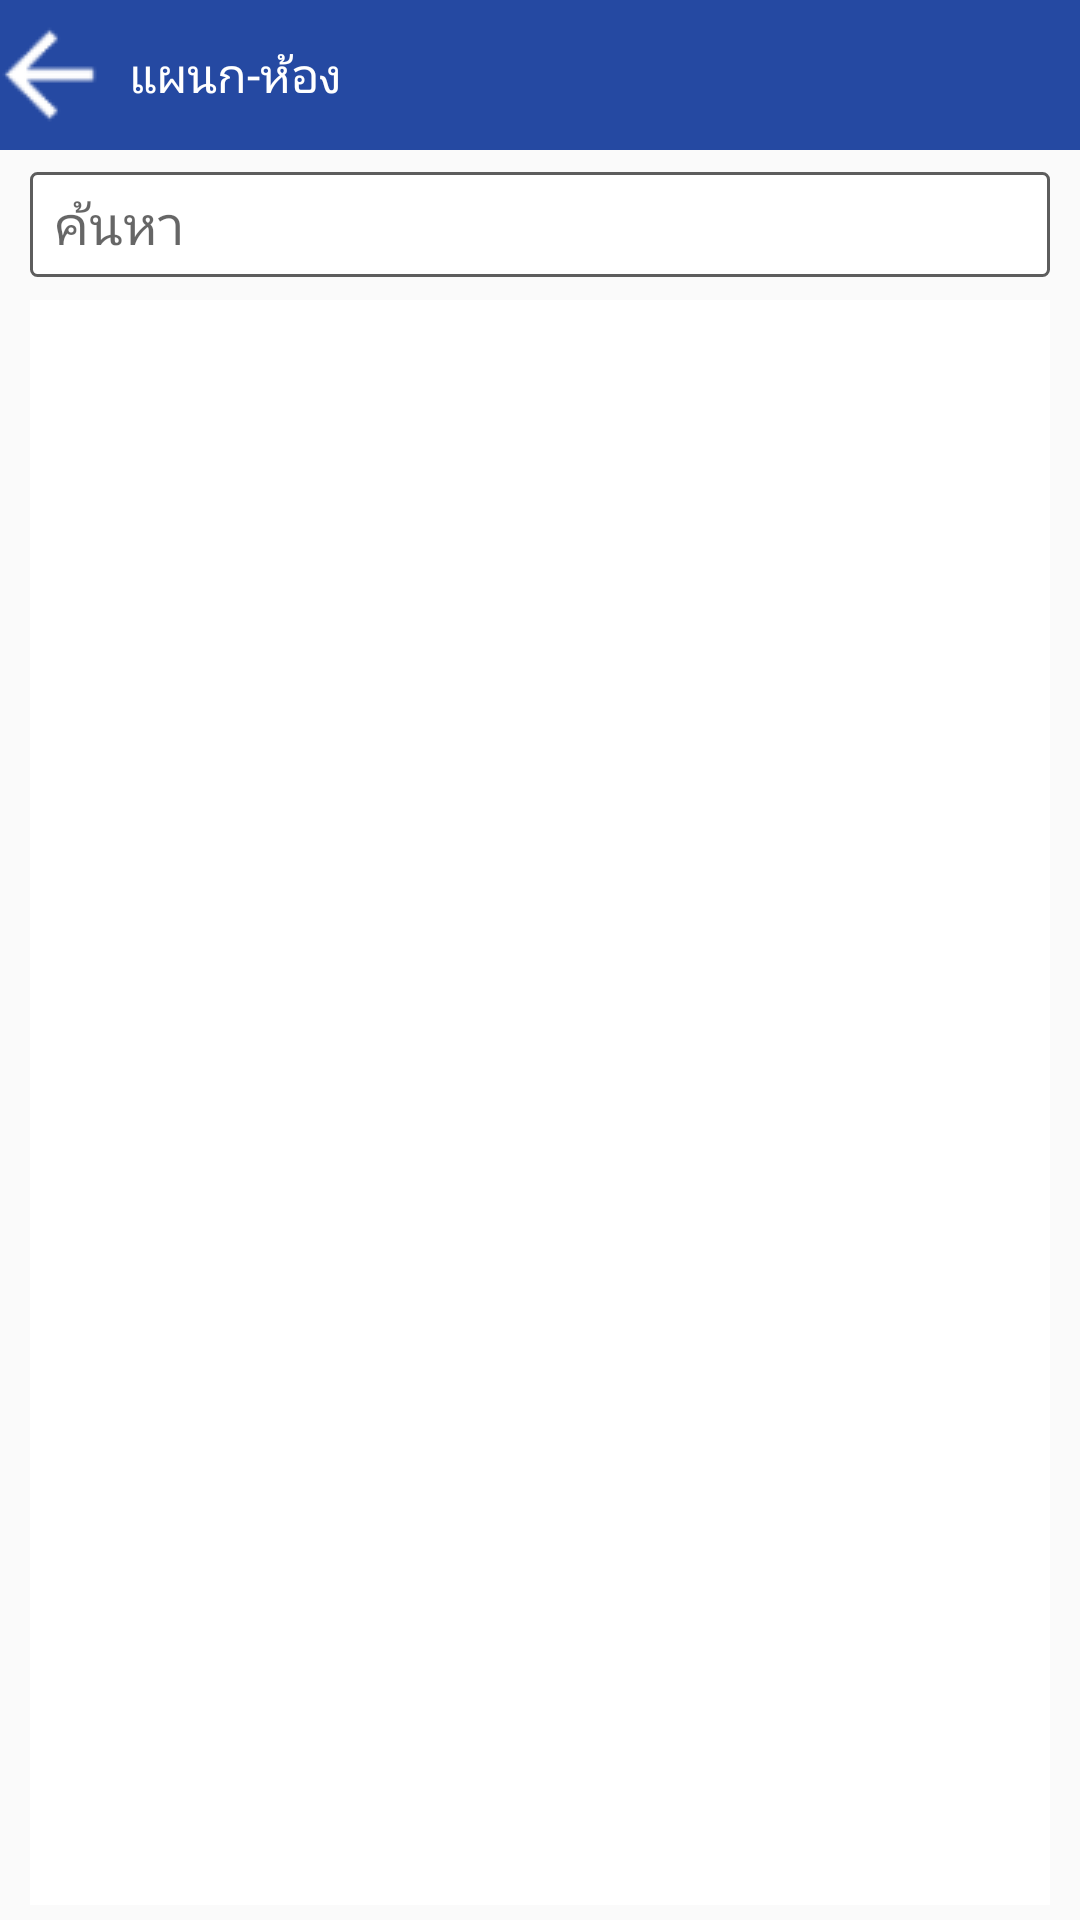

Icons on this 1080*1920 Android screen, each with the point to tap as point (x, y):
arrow back: point (50, 75)
